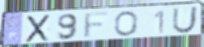1: (154, 9, 165, 34)
9: (57, 12, 80, 41)
F: (81, 10, 112, 41)
O: (113, 10, 139, 37)
U: (171, 6, 199, 35)
X: (24, 14, 52, 44)
